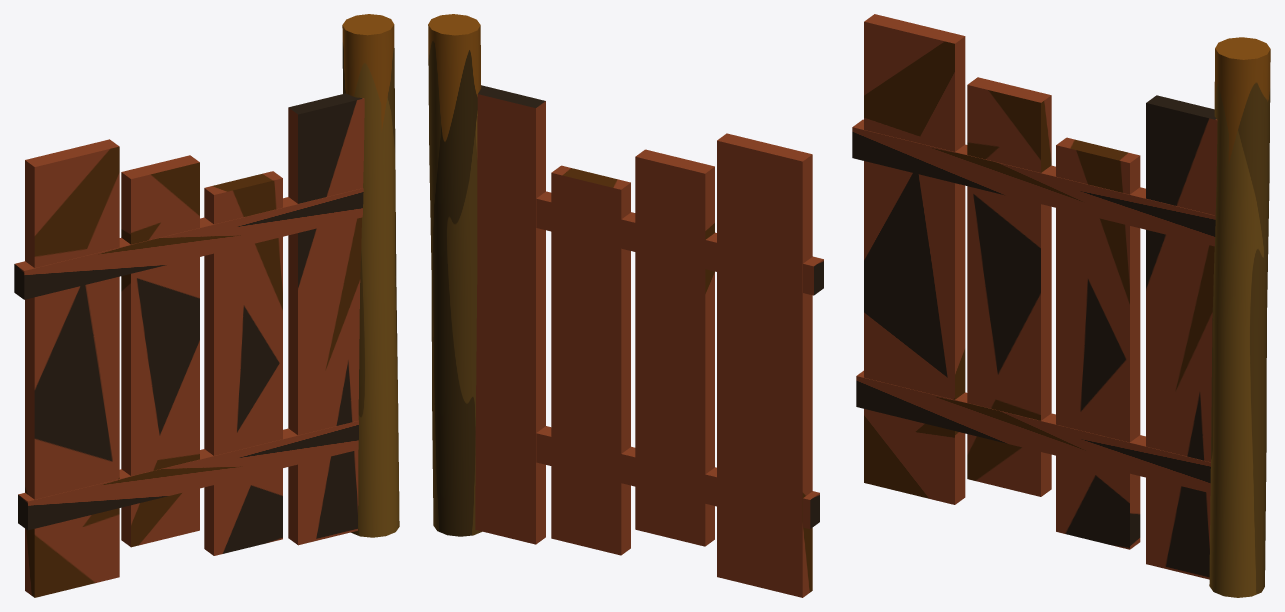
Rendered from PRMC_Puerta01.FBX.
The picture shows the model from 3 angles, left to right: view 1: azimuth 30°, elevation 25°; view 2: azimuth 150°, elevation 25°; view 3: azimuth 330°, elevation 25°; orthographic projection. The views are drawn at different scales.
Parts seen in each view (by area): view 1: PRMC_Puerta01; view 2: PRMC_Puerta01; view 3: PRMC_Puerta01.
Boxes of the visible parts, bbox=[...] form: PRMC_Puerta01: bbox=[14, 14, 399, 597]; PRMC_Puerta01: bbox=[428, 14, 823, 597]; PRMC_Puerta01: bbox=[852, 14, 1270, 597].
Bounding box in the file's own units: 2.22 × 2.81 × 0.3067.
